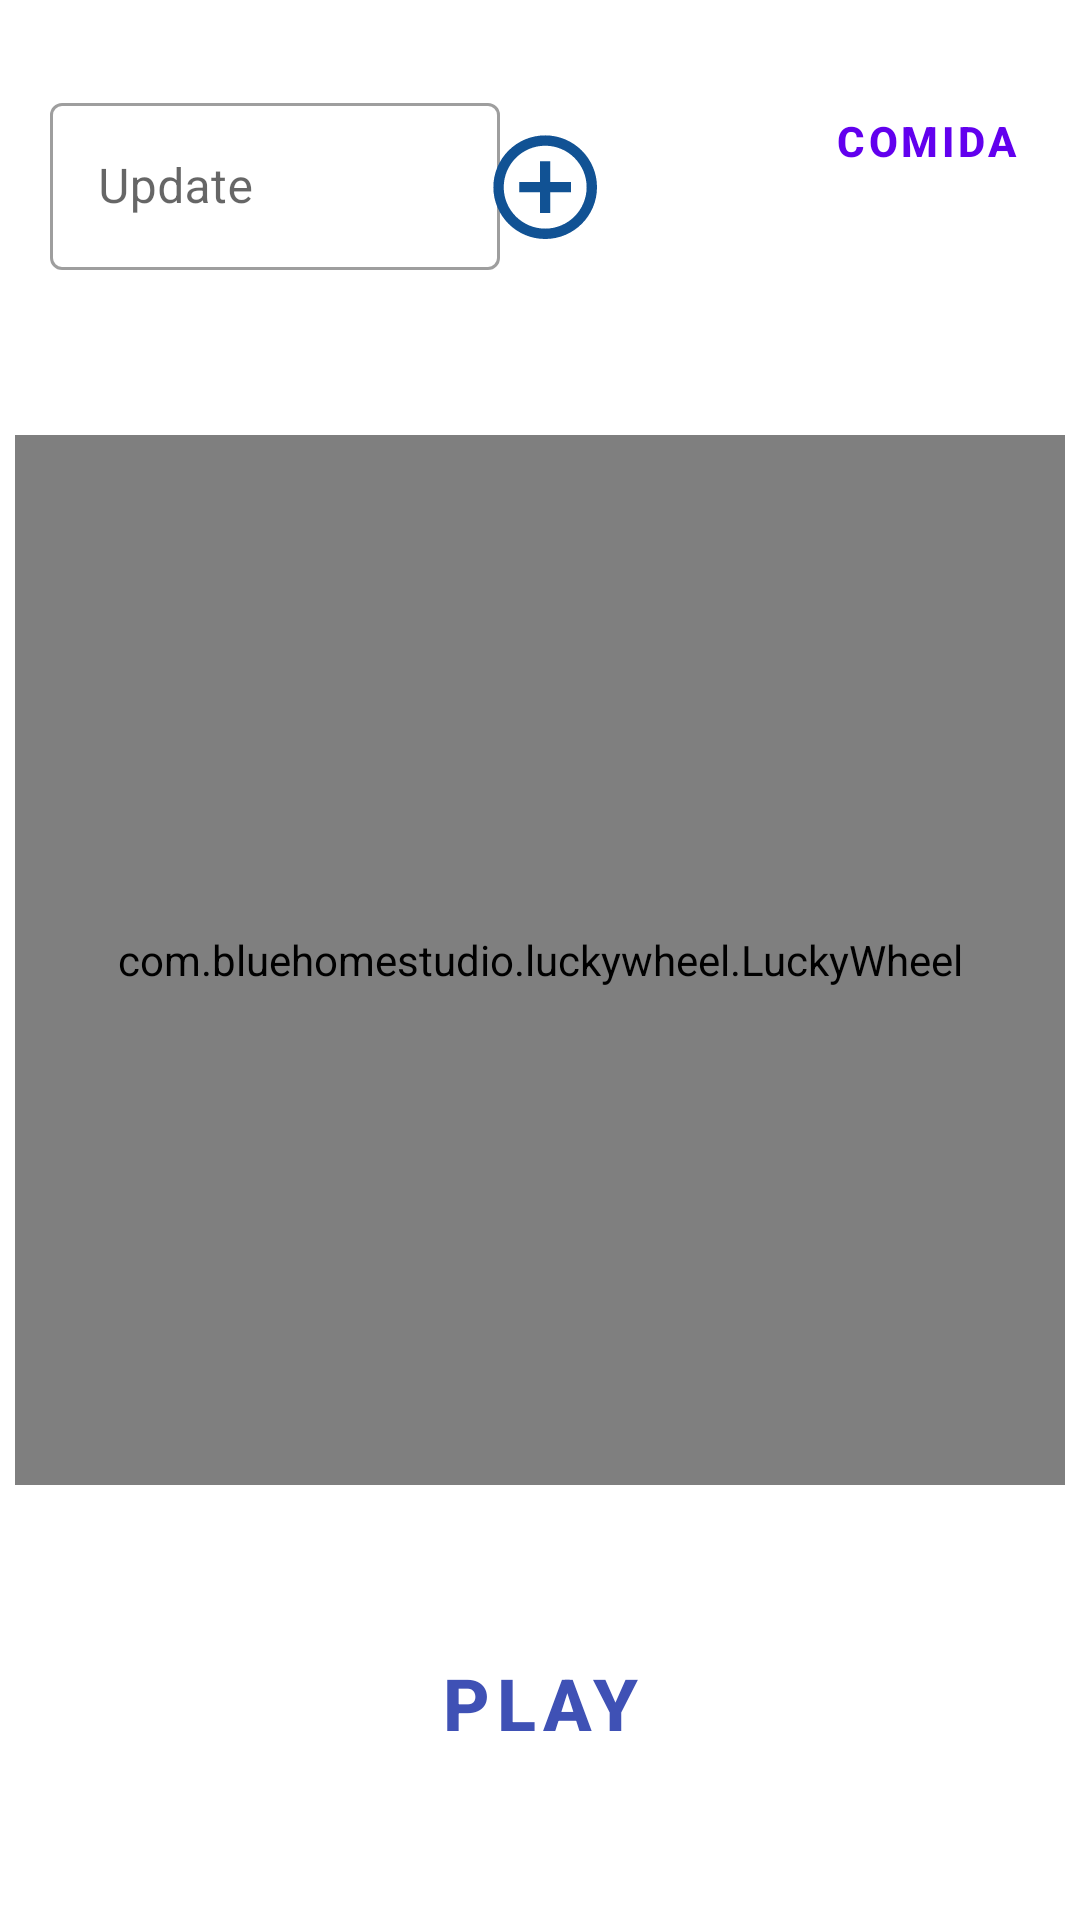

Screen size 1080px×1920px. Icon name, then its center in pixels as (x,y):
mas: (545,182)
